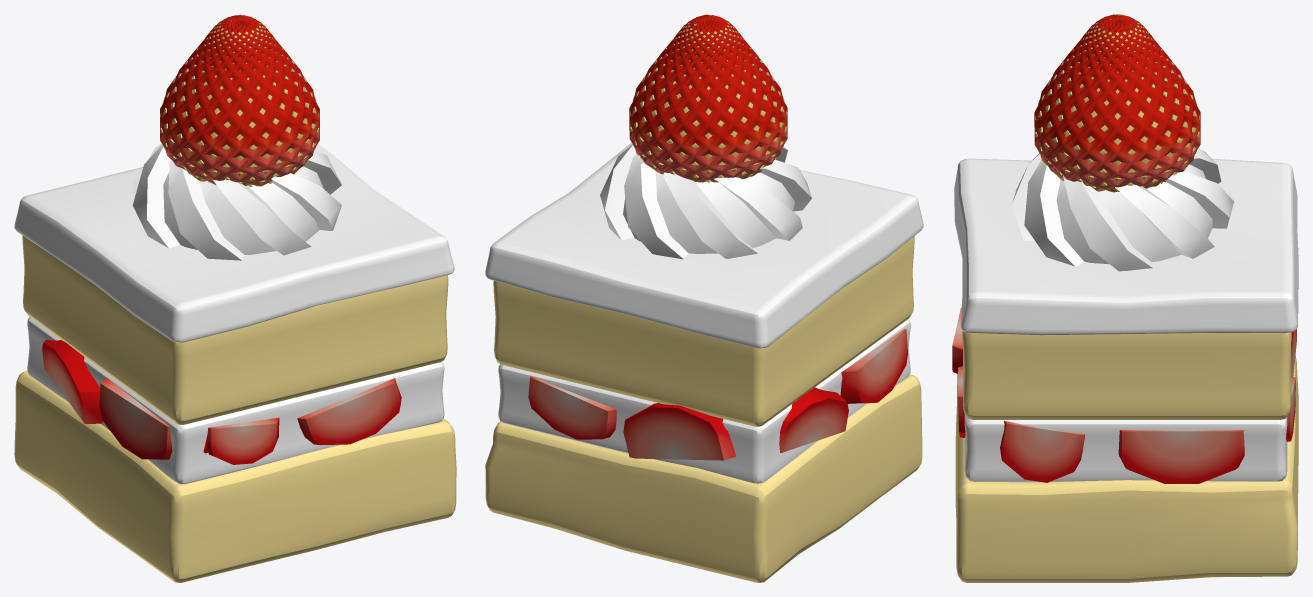
The model's file is strawberry_shortcake-CRiMLrd4.glb.
The picture shows the model from 3 angles, left to right: view 1: azimuth 30°, elevation 25°; view 2: azimuth 150°, elevation 25°; view 3: azimuth 270°, elevation 25°; orthographic projection. The views are drawn at different scales.
Parts seen in each view (by area): view 1: StrawberryShortCake:Cake_1, StrawberryShortCake:Cream_2, StrawberryShortCake:Cake_2, StrawberryShortCake:Strawberry1_StrawberryShortCake:Strawber (×2), StrawberryShortCake:Cream_topping1_StrawberryShortCake:Cream, StrawberryShortCake:Cream_1, StrawberryShortCake:pCube14_StrawberryShortCake:Strawberry_h, StrawberryShortCake:pCube11_StrawberryShortCake:Strawberry_h, StrawberryShortCake:pCube12_StrawberryShortCake:Strawberry_h, StrawberryShortCake:pCube13_StrawberryShortCake:Strawberry_h; view 2: StrawberryShortCake:Cake_1, StrawberryShortCake:Cream_2, StrawberryShortCake:Cake_2, StrawberryShortCake:Strawberry1_StrawberryShortCake:Strawber (×2), StrawberryShortCake:Cream_topping1_StrawberryShortCake:Cream, StrawberryShortCake:Cream_1, StrawberryShortCake:pCube9_StrawberryShortCake:Strawberry_ha, StrawberryShortCake:pCube10_StrawberryShortCake:Strawberry_h, StrawberryShortCake:pCube11_StrawberryShortCake:Strawberry_h, StrawberryShortCake:pCube12_StrawberryShortCake:Strawberry_h; view 3: StrawberryShortCake:Cream_2, StrawberryShortCake:Cake_1, StrawberryShortCake:Cake_2, StrawberryShortCake:Strawberry1_StrawberryShortCake:Strawber (×2), StrawberryShortCake:Cream_topping1_StrawberryShortCake:Cream, StrawberryShortCake:Cream_1, StrawberryShortCake:pCube7_StrawberryShortCake:Strawberry_ha, StrawberryShortCake:pCube8_StrawberryShortCake:Strawberry_ha, StrawberryShortCake:pCube13_StrawberryShortCake:Strawberry_h.
Part boxes in pixels (x1,y1,x2,y2): StrawberryShortCake:Cake_1: (14,370,456,582); StrawberryShortCake:Cream_2: (14,144,454,342); StrawberryShortCake:Cake_2: (22,235,448,424); StrawberryShortCake:Strawberry1_StrawberryShortCake:Strawber (×2): (160,14,319,186); StrawberryShortCake:Cream_topping1_StrawberryShortCake:Cream: (132,143,341,260); StrawberryShortCake:Cream_1: (27,317,444,484); StrawberryShortCake:pCube14_StrawberryShortCake:Strawberry_h: (297,378,401,445); StrawberryShortCake:pCube11_StrawberryShortCake:Strawberry_h: (99,377,208,459); StrawberryShortCake:pCube12_StrawberryShortCake:Strawberry_h: (42,339,102,423); StrawberryShortCake:pCube13_StrawberryShortCake:Strawberry_h: (207,417,279,464); StrawberryShortCake:Cake_1: (485,374,922,582); StrawberryShortCake:Cream_2: (485,142,923,348); StrawberryShortCake:Cake_2: (493,236,914,426); StrawberryShortCake:Strawberry1_StrawberryShortCake:Strawber (×2): (629,14,787,182); StrawberryShortCake:Cream_topping1_StrawberryShortCake:Cream: (600,144,811,259); StrawberryShortCake:Cream_1: (498,319,910,483); StrawberryShortCake:pCube9_StrawberryShortCake:Strawberry_ha: (623,403,735,460); StrawberryShortCake:pCube10_StrawberryShortCake:Strawberry_h: (528,375,616,439); StrawberryShortCake:pCube11_StrawberryShortCake:Strawberry_h: (840,328,907,403); StrawberryShortCake:pCube12_StrawberryShortCake:Strawberry_h: (779,387,848,452); StrawberryShortCake:Cream_2: (954,158,1298,335); StrawberryShortCake:Cake_1: (955,356,1298,582); StrawberryShortCake:Cake_2: (962,331,1291,419); StrawberryShortCake:Strawberry1_StrawberryShortCake:Strawber (×2): (1034,14,1200,192); StrawberryShortCake:Cream_topping1_StrawberryShortCake:Cream: (1011,148,1233,271); StrawberryShortCake:Cream_1: (964,413,1287,482); StrawberryShortCake:pCube7_StrawberryShortCake:Strawberry_ha: (1118,430,1244,483); StrawberryShortCake:pCube8_StrawberryShortCake:Strawberry_ha: (1000,420,1085,482); StrawberryShortCake:pCube13_StrawberryShortCake:Strawberry_h: (952,307,962,373).
Size of the model in its own units: 0.731 by 1.15 by 0.7204.
Materials: 5 (3 with a texture image).
